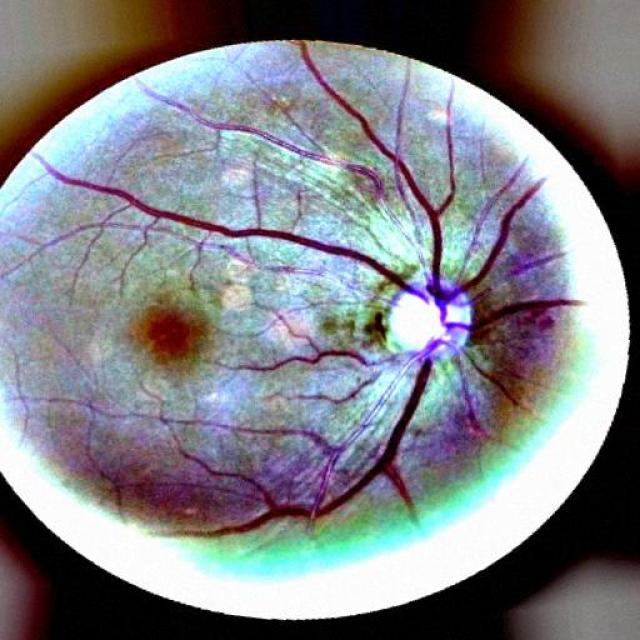Macula: (122, 284, 213, 370)
Nerves: (41, 161, 407, 273), (301, 67, 449, 261), (279, 374, 439, 528), (475, 196, 526, 287), (496, 293, 564, 330)
Optic Disk: (375, 271, 486, 367)
